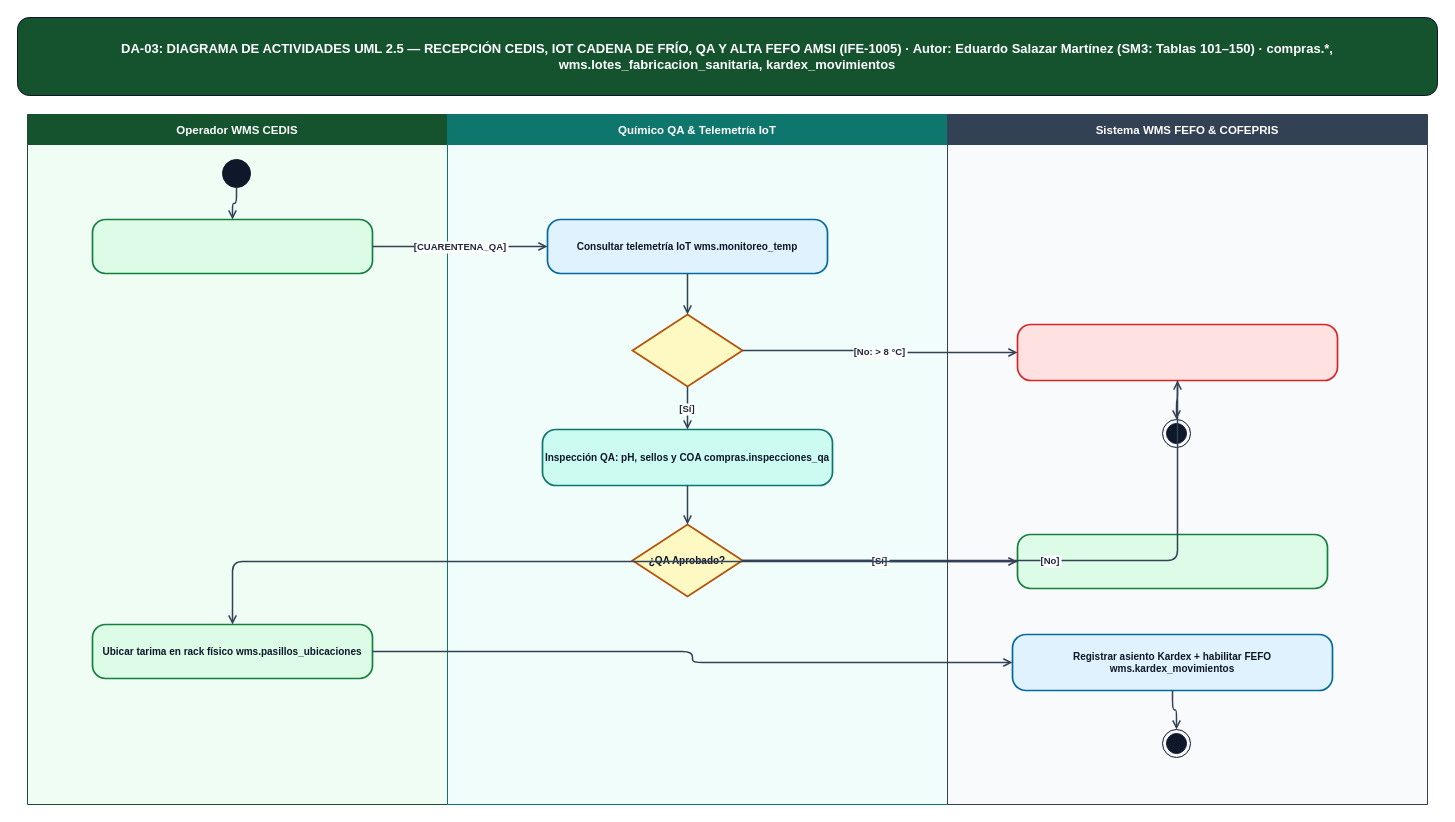
Image size: 1455x822. Some labels were removed from this diagram. Each missing label, with the centre of its shape:
Aislar en Cuarentena y emitir Acta Destrucción COFEPRIS: the point at 1177,352
Crear lote sanitario FEFO wms.lotes_fabricacion: the point at 1172,561
Escanear OC y conteo ciego compras.recepciones: the point at 232,246
¿Rango 2-8 °C?: the point at 687,350
